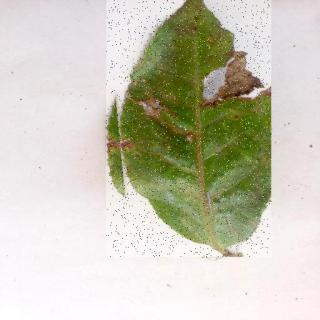Algal Leaf: (108, 1, 273, 258)
